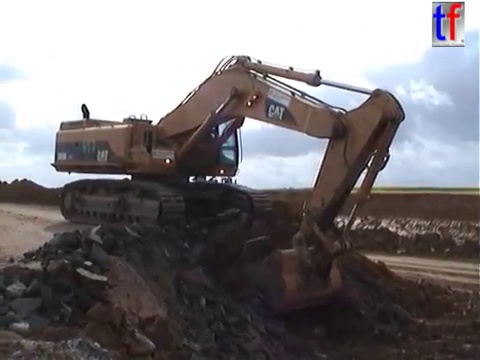excavator: (47, 51, 408, 312)
